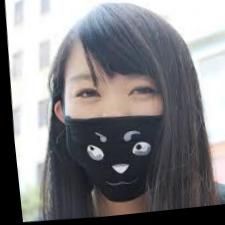WRONG: (48, 54, 179, 208)
